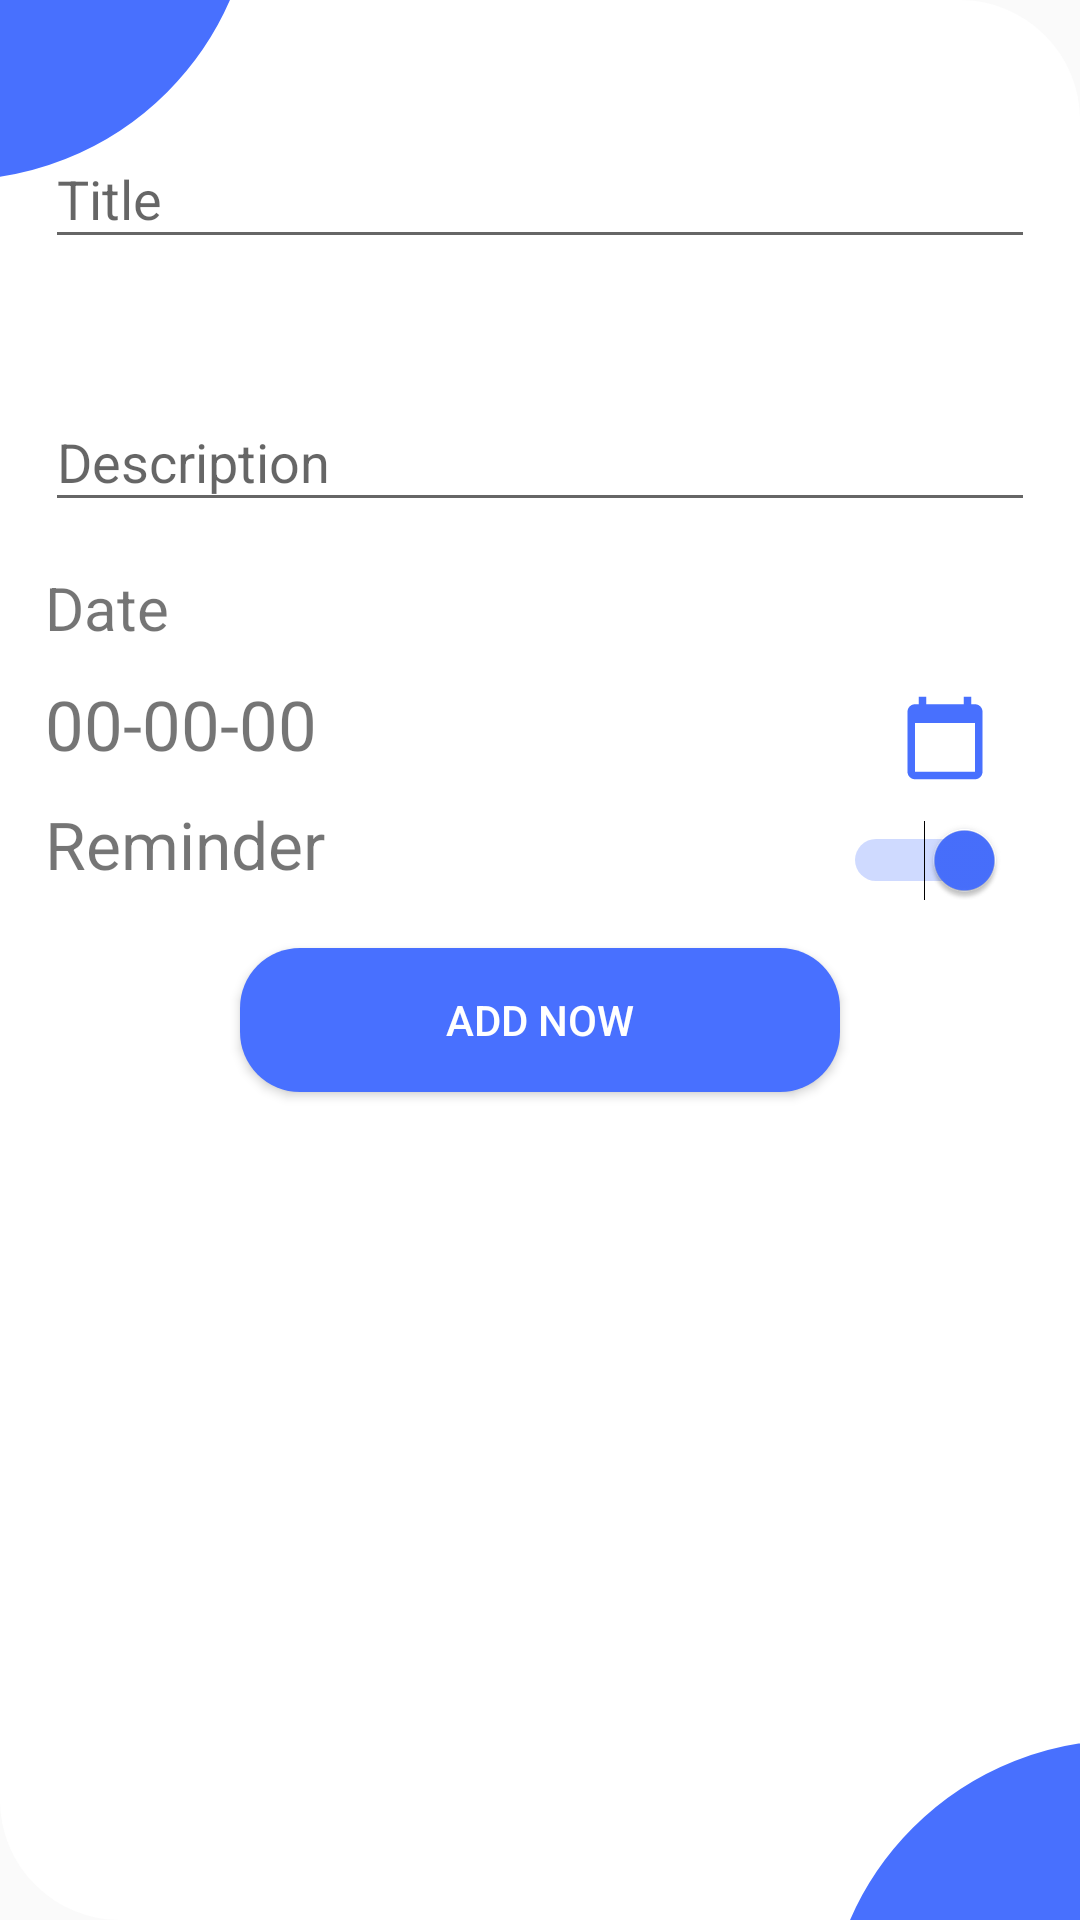

Screen size 1080px×1920px. Icon name, then its box in pixels as [left=x1, top=y1, right=x2, bottom=y2]:
calendar today: [left=907, top=696, right=983, bottom=780]
